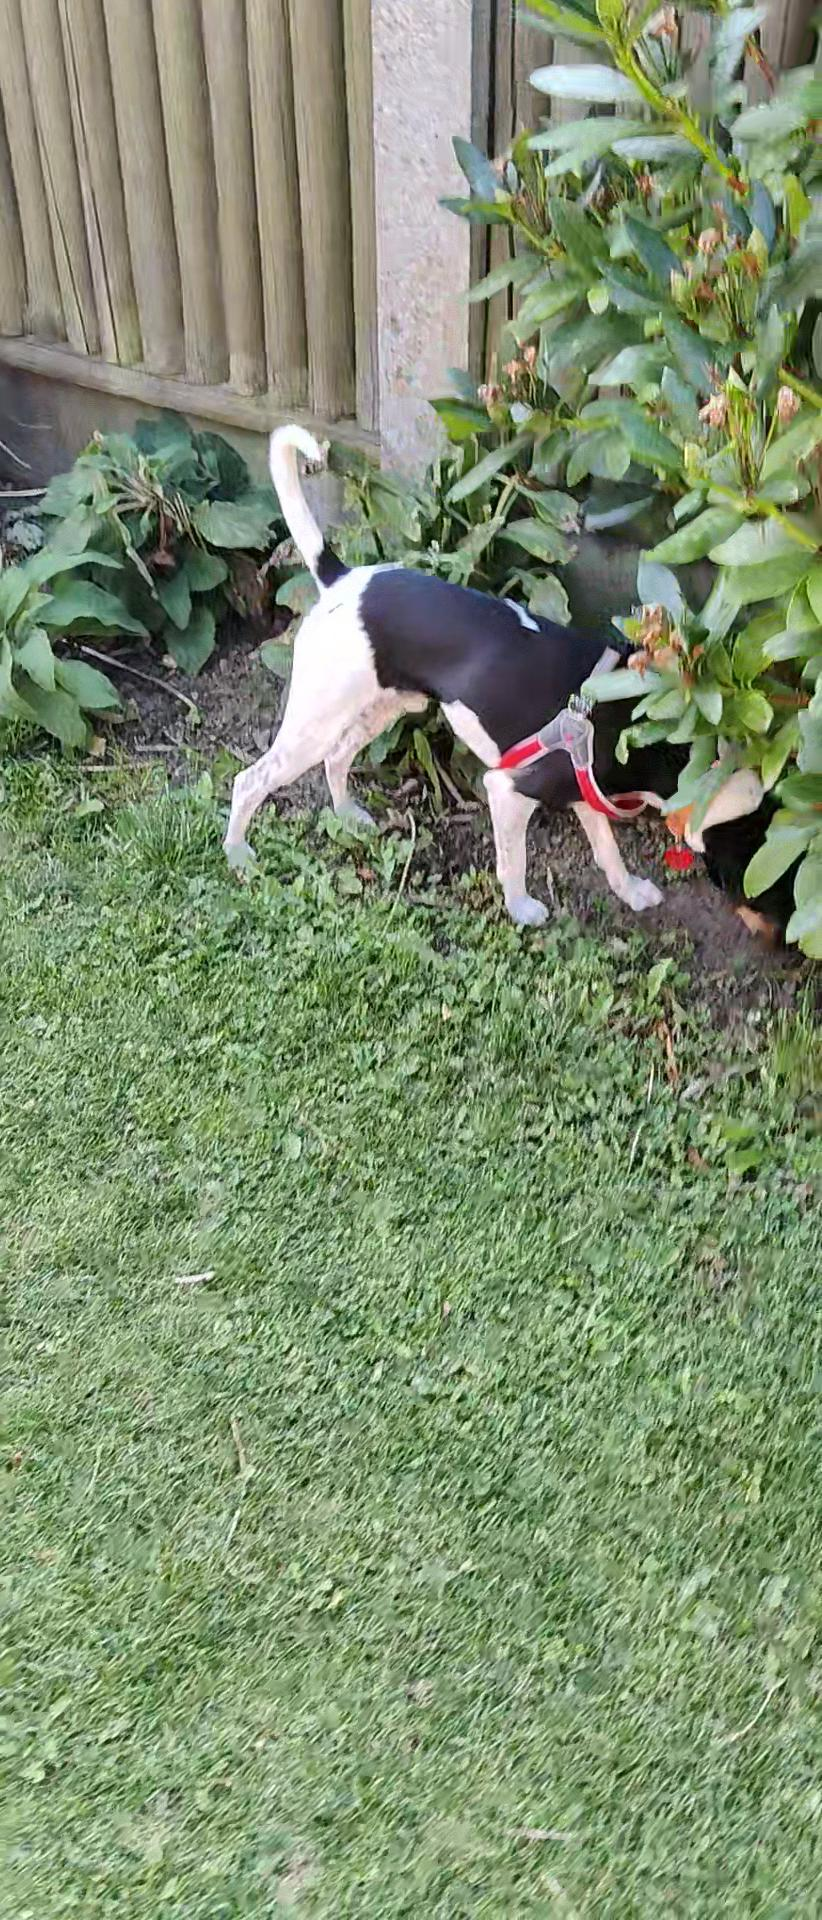Dog: (160, 405, 801, 959)
